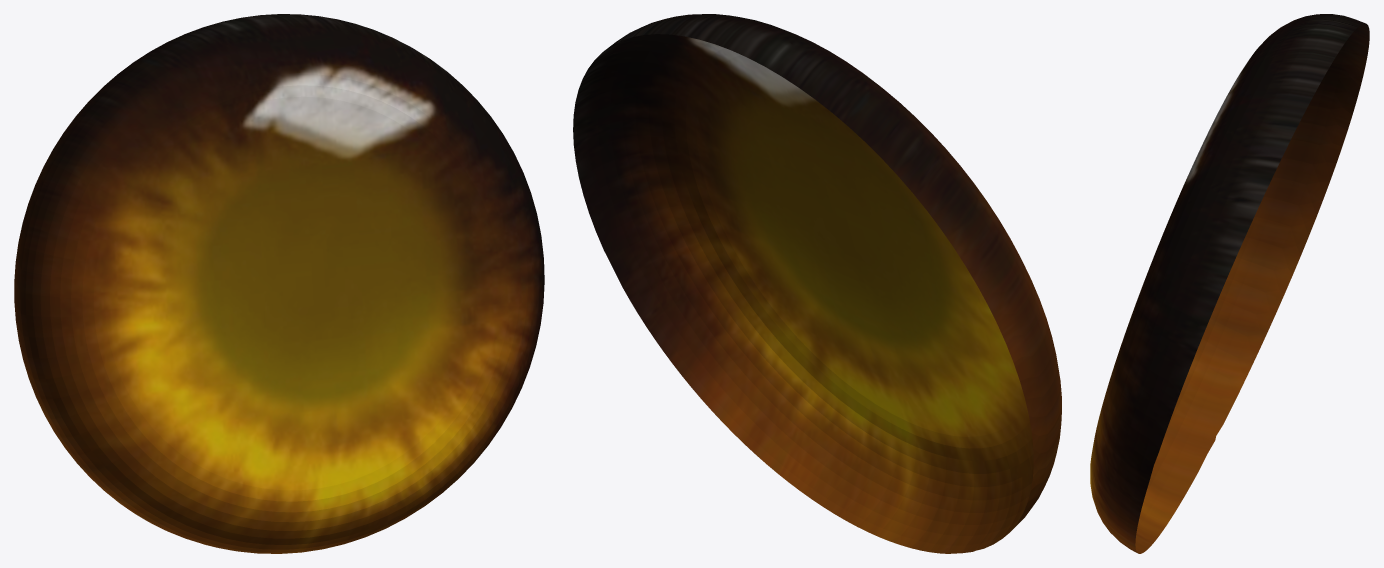
The model's file is ojoizqbotamon.obj.
The picture shows the model from 3 angles, left to right: view 1: azimuth 30°, elevation 25°; view 2: azimuth 150°, elevation 25°; view 3: azimuth 270°, elevation 25°; orthographic projection. The views are drawn at different scales.
Visible parts, largest first — view 1: ojoizqbotamon:obj_20102616; view 2: ojoizqbotamon:obj_20102616; view 3: ojoizqbotamon:obj_20102616.
Boxes of the visible parts, x1,y1,x2,y2 form: ojoizqbotamon:obj_20102616: (14,14,544,553); ojoizqbotamon:obj_20102616: (573,14,1061,553); ojoizqbotamon:obj_20102616: (1090,14,1369,553).
Bounding box in the file's own units: 2.41 × 2.38 × 1.2.
Materials: 1 (1 with a texture image).
